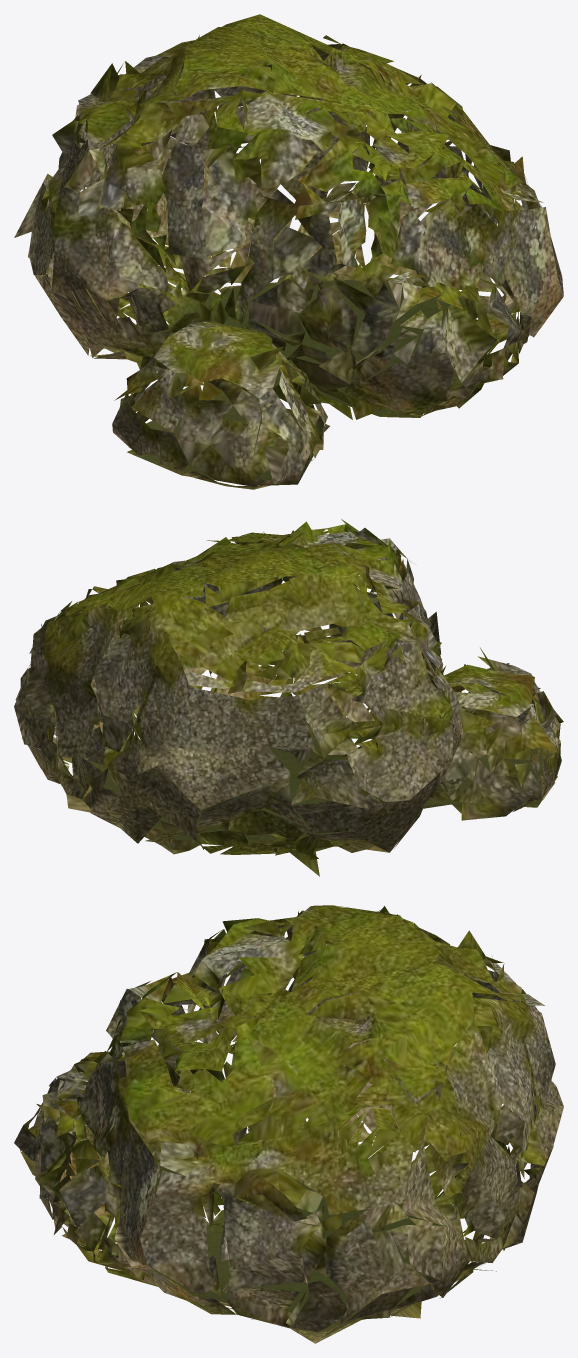
File: pedra_grande_lod1.glb
3 views of the same model, one above another, from view 1: azimuth 30°, elevation 25°; view 2: azimuth 150°, elevation 25°; view 3: azimuth 270°, elevation 25° (orthographic). The views are drawn at different scales.
Visible parts, largest first — view 1: pedra_grande; view 2: pedra_grande; view 3: pedra_grande.
Boxes of the visible parts, left/top/right/bottom form: pedra_grande: left=14, top=14, right=563, bottom=489; pedra_grande: left=14, top=519, right=563, bottom=876; pedra_grande: left=14, top=905, right=563, bottom=1343.
Bounding box in the file's own units: 3.44 × 2.03 × 3.36.
Materials: 1 (1 with a texture image).
